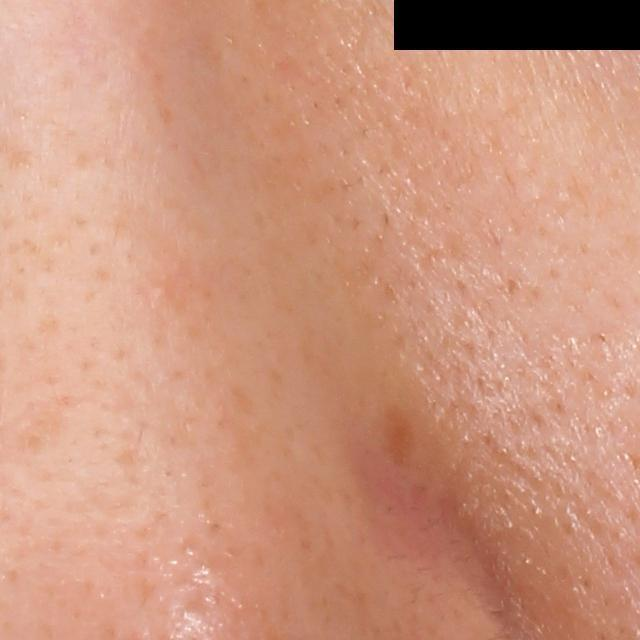melasma: (378, 392, 417, 469)
